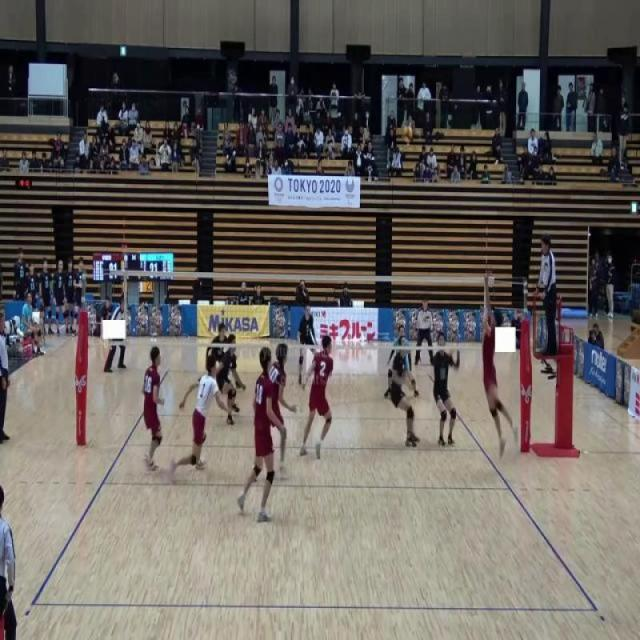volleyball: (402, 125, 413, 144)
